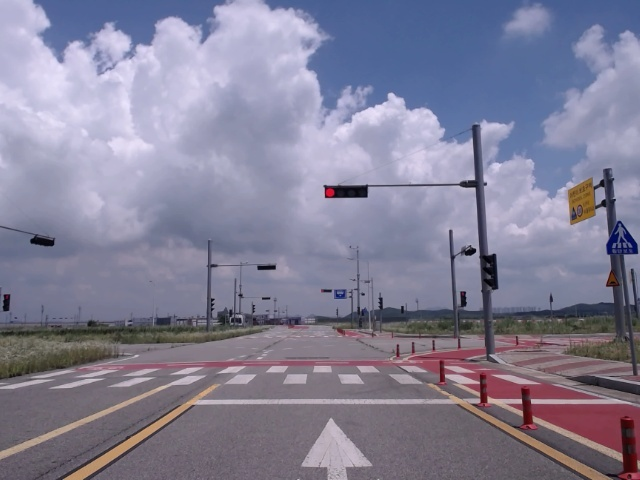red_4: (324, 185, 368, 198)
